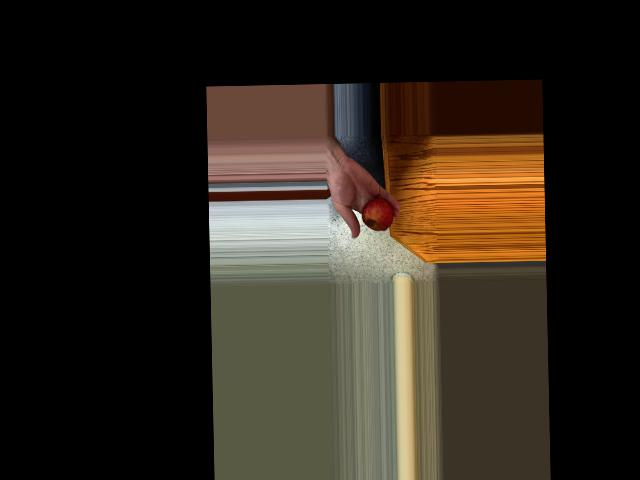apple: (359, 198, 395, 232)
